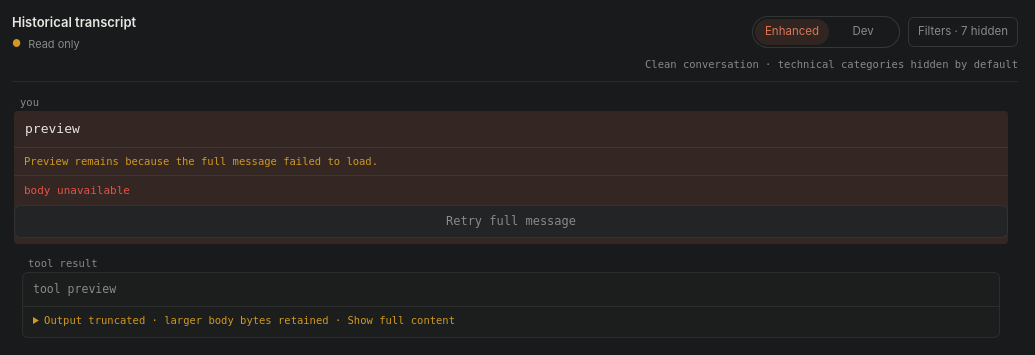
HistoricalTranscript retained message hydration › does not auto-fetch tools, keeps failure previews retryable, and labels retained truncation
Expected: the text "body unavailable" is shown, top-left (14, 175), bottom-right (1008, 205)
Expected: the text "Preview remains because the full message failed to load." is shown, top-left (14, 147), bottom-right (1008, 175)
Click the button "Retry full message": (511, 222) top-left (14, 205), bottom-right (1008, 238)
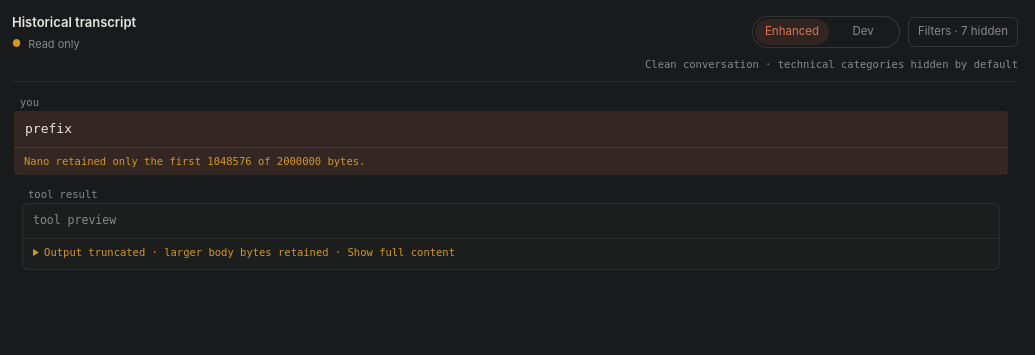
Expected: the text "tool preview" is shown, top-left (33, 213), bottom-right (116, 227)
Now the text "Nano retained only the first 1048576 of 2000000 bytes." is shown, box top-left (14, 147), bottom-right (1008, 175)
